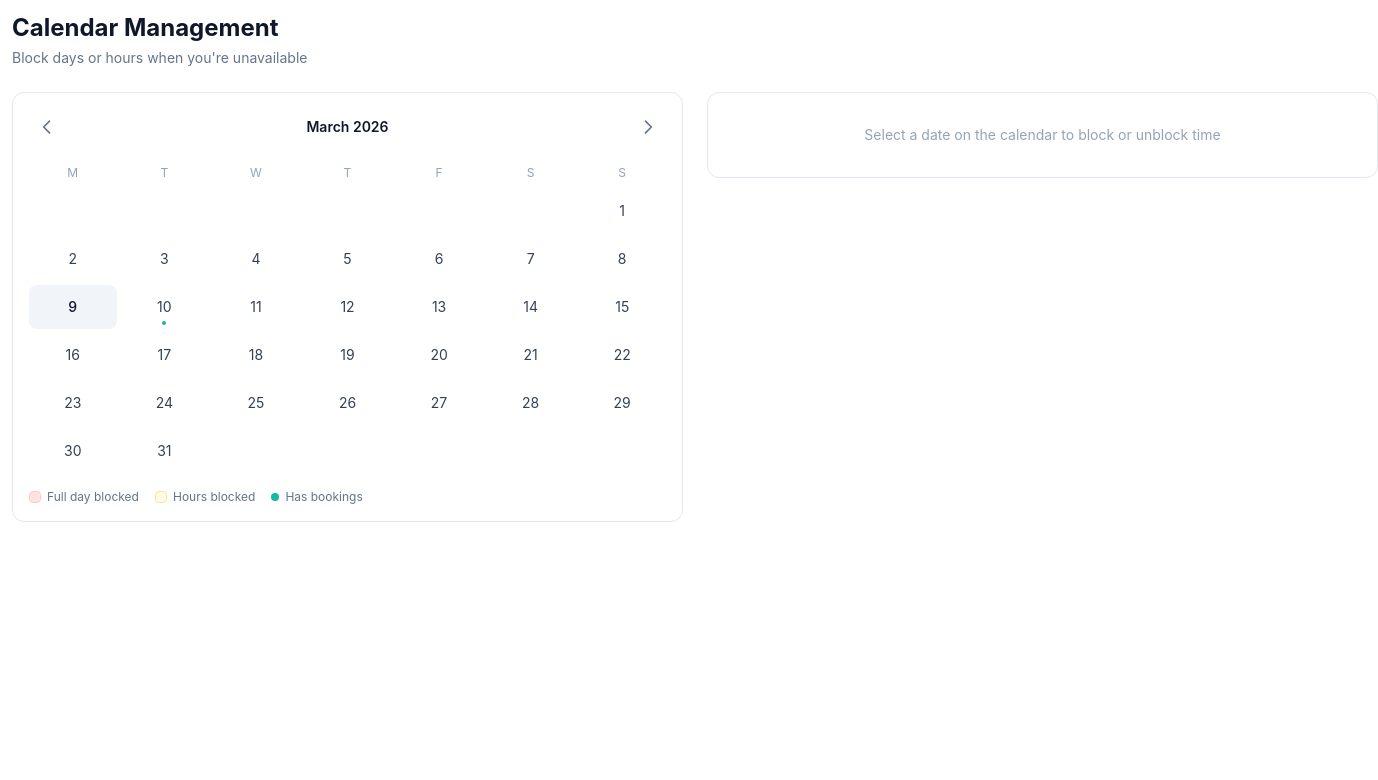
Test case: Calendar Page › links bookings to patient detail page
Expected: the heading "Calendar Management" is shown, [12, 13, 278, 42]
Click the button "10" at x=164, y=307, box [121, 285, 208, 329]
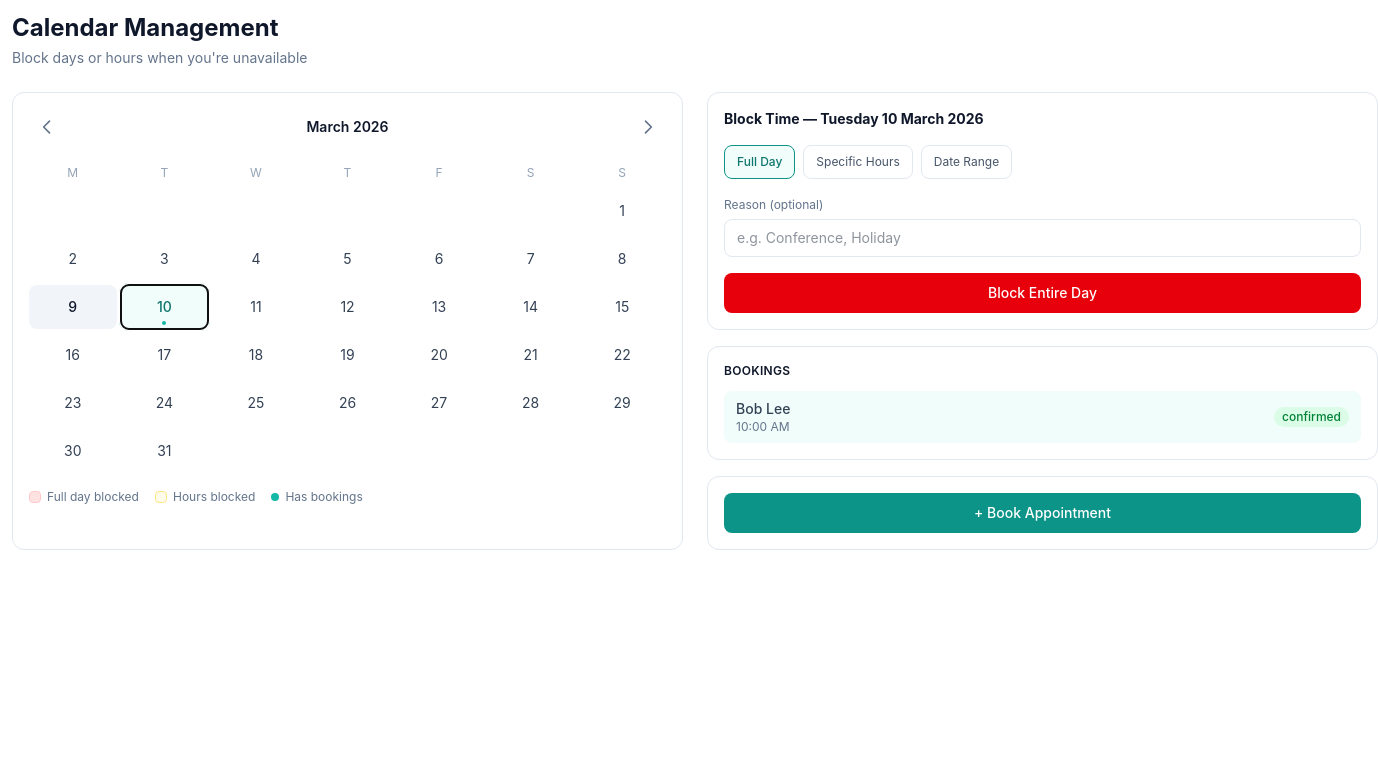
Now the text "Bob Lee" is shown, box [736, 399, 790, 419]
